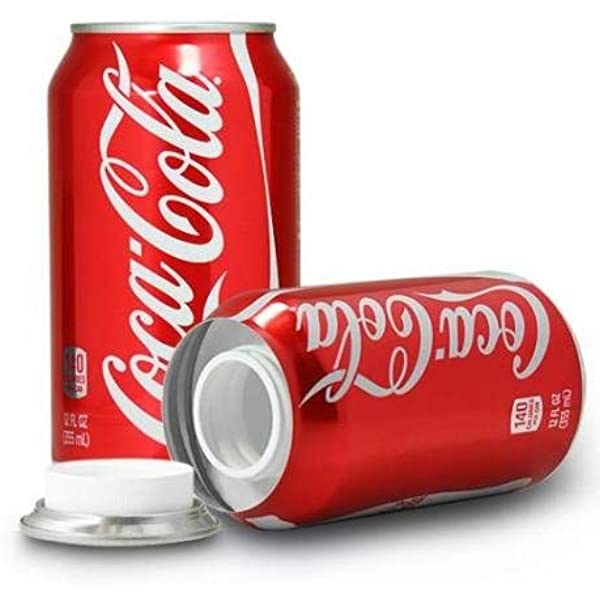can: (44, 19, 303, 508), (160, 268, 589, 532)
